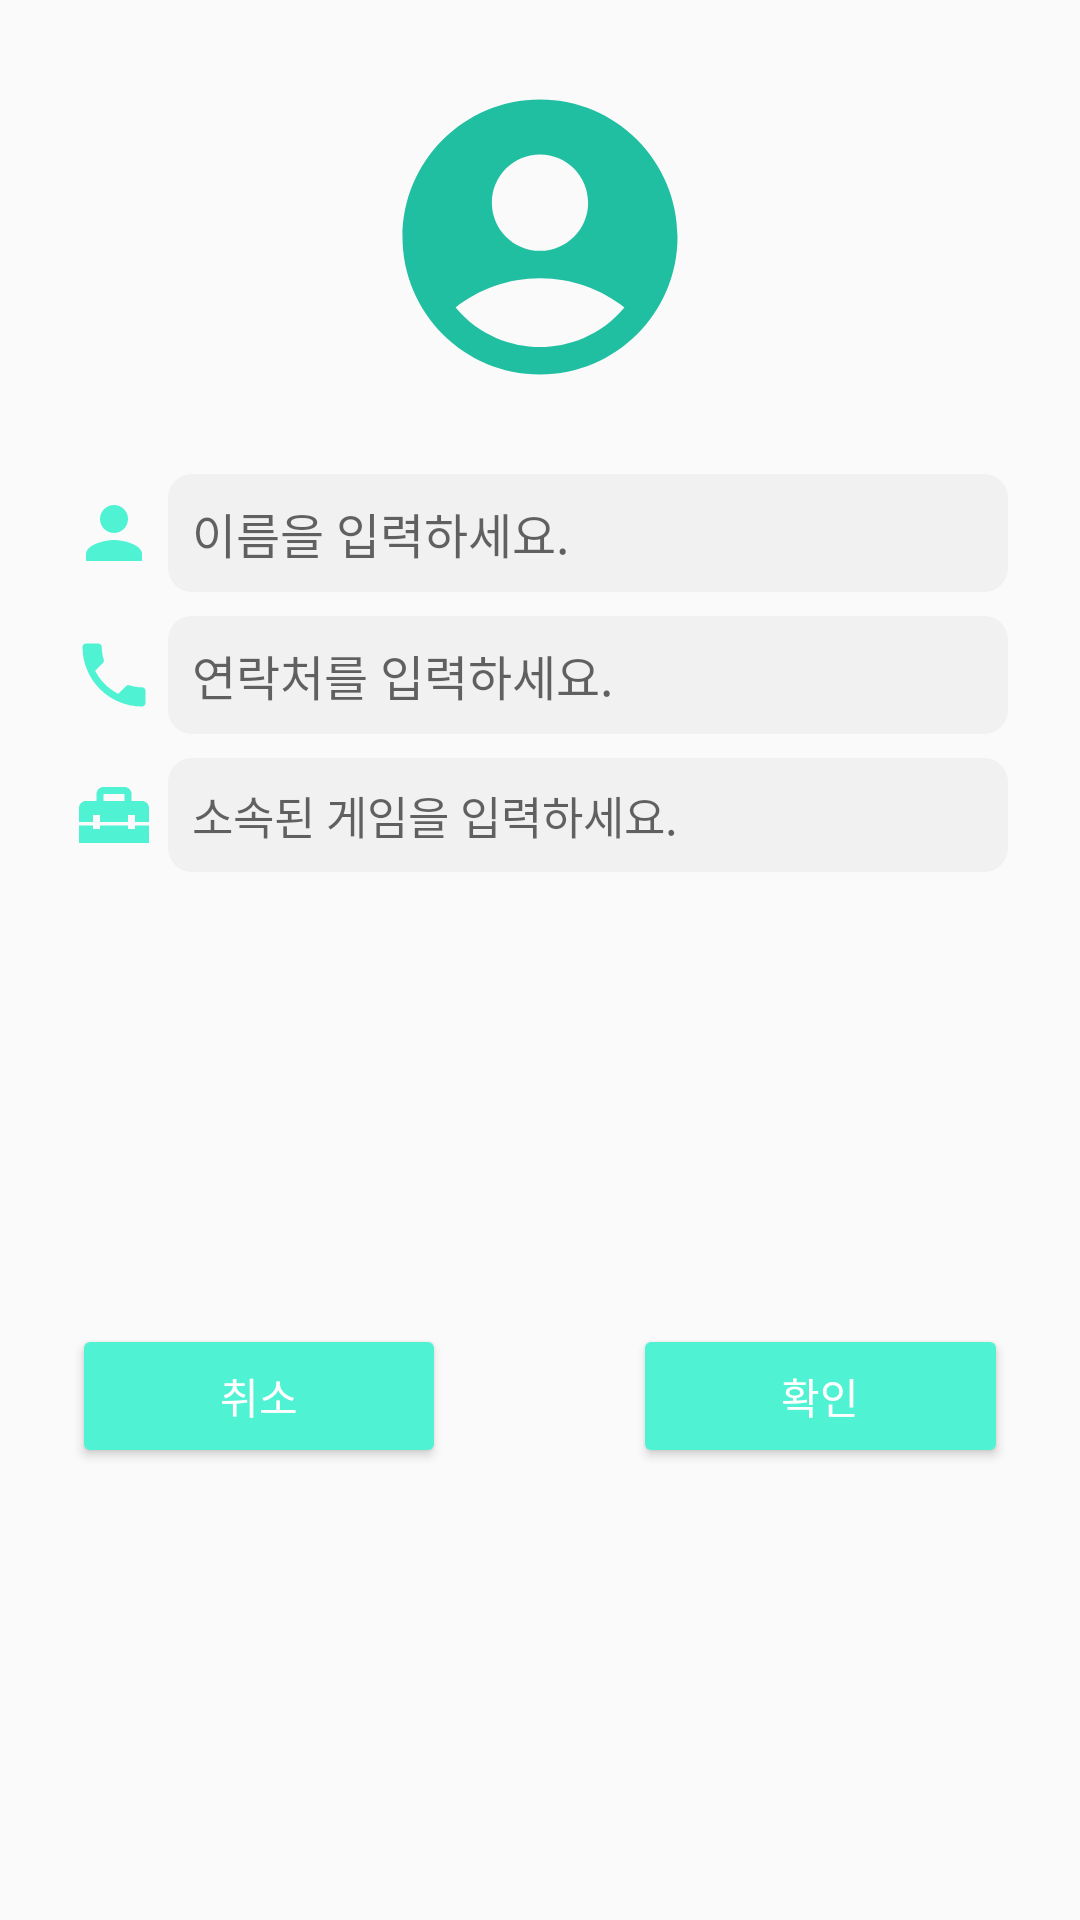

Locate icon controls on the screen. Image size 1080*1920, boxes as {"x1": x1, "y1": y1, "x2": x2, "y2": y2}.
account circle: {"x1": 402, "y1": 99, "x2": 678, "y2": 375}
document bag: {"x1": 79, "y1": 787, "x2": 149, "y2": 843}
person: {"x1": 86, "y1": 505, "x2": 142, "y2": 561}
phone: {"x1": 82, "y1": 643, "x2": 146, "y2": 707}
